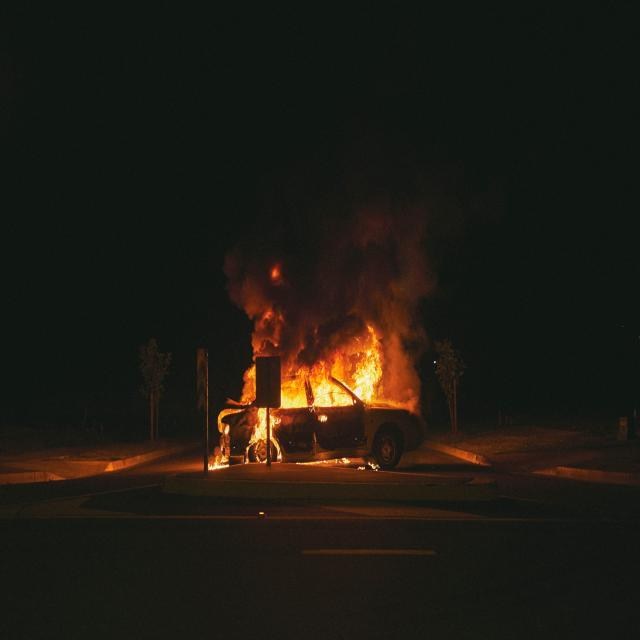Fire: (236, 326, 382, 472), (207, 444, 229, 470), (224, 424, 230, 434)
Smoke: (226, 200, 428, 412)
